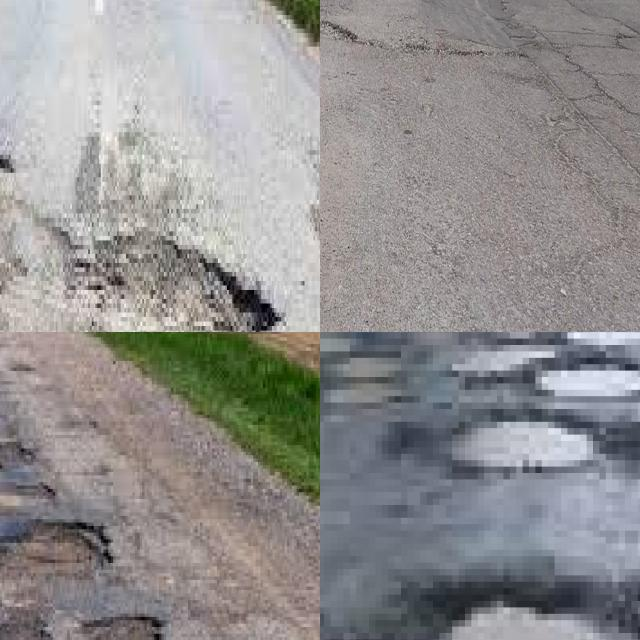Pothole: (0, 209, 277, 332), (446, 582, 640, 640), (503, 332, 640, 403), (0, 523, 140, 576), (452, 422, 593, 467), (320, 351, 363, 390), (320, 20, 356, 42)
